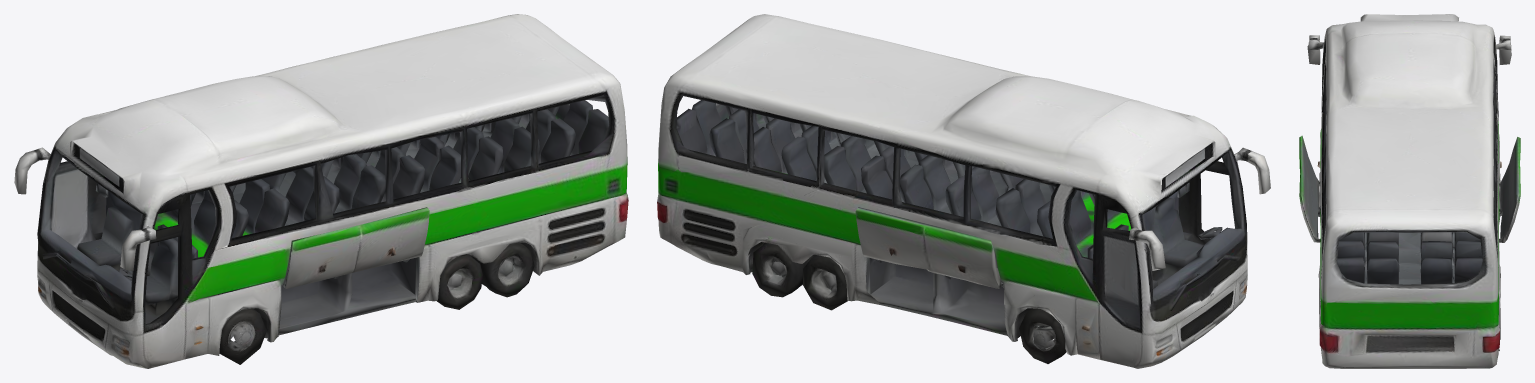
The model's file is bus_coach.glb.
3 views of the same model, side by side, from view 1: azimuth 30°, elevation 25°; view 2: azimuth 150°, elevation 25°; view 3: azimuth 270°, elevation 25° (orthographic). The views are drawn at different scales.
Visible parts, largest first — view 1: tripo_node_49ada6d2-5233-4bc9-beee-540fff455d47; view 2: tripo_node_49ada6d2-5233-4bc9-beee-540fff455d47; view 3: tripo_node_49ada6d2-5233-4bc9-beee-540fff455d47.
Boxes of the visible parts, <box> form: tripo_node_49ada6d2-5233-4bc9-beee-540fff455d47: <box>14,14,628,368</box>; tripo_node_49ada6d2-5233-4bc9-beee-540fff455d47: <box>657,14,1270,368</box>; tripo_node_49ada6d2-5233-4bc9-beee-540fff455d47: <box>1299,14,1520,368</box>.
Size of the model in its own units: 1 by 0.4006 by 0.4191.
1 material, 1 textured.
